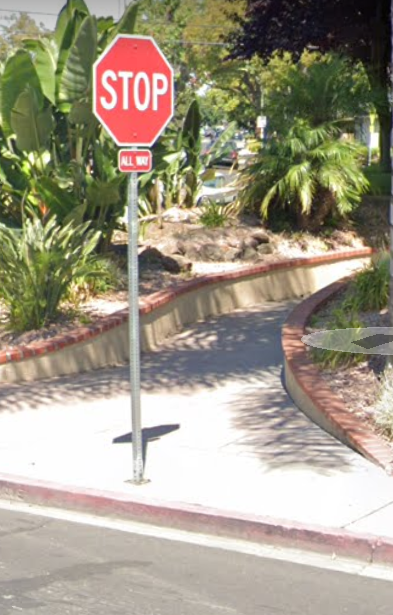stop_sign: (95, 33, 175, 144)
